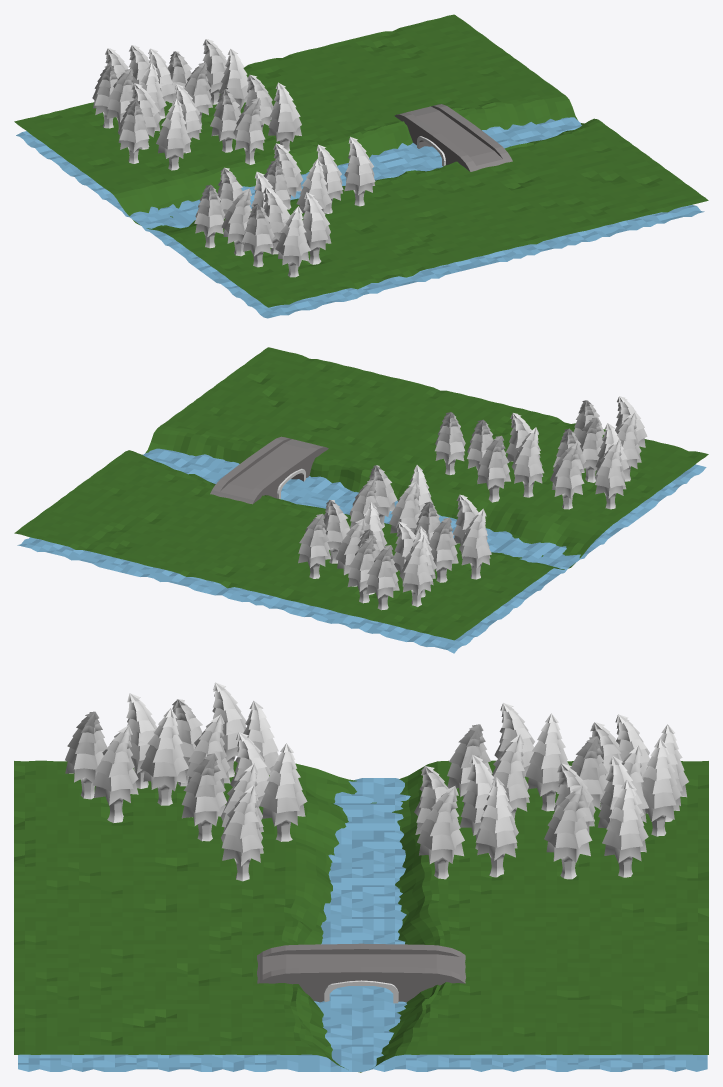
Rendered from Konstruktion.fbx.
The picture shows the model from 3 angles, top to bottom: view 1: azimuth 30°, elevation 25°; view 2: azimuth 150°, elevation 25°; view 3: azimuth 270°, elevation 25°; orthographic projection. The views are drawn at different scales.
Visible parts, largest first — view 1: Plane, Plane.001, Cube, pCylinder1.007, pCylinder1.023, pCylinder1.015, pCylinder1.030, pCylinder1.016, pCylinder1.025, pCylinder1.024, pCylinder1.008, pCylinder1.018 (+20 smaller); view 2: Plane, Plane.001, Cube, pCylinder1.021, pCylinder1.008, pCylinder1.026, pCylinder1.012, pCylinder1.018, pCylinder1.028, pCylinder1.010, pCylinder1.005, pCylinder1.030 (+20 smaller); view 3: Plane, Plane.001, Cube, pCylinder1.022, pCylinder1.003, pCylinder1.026, pCylinder1.025, pCylinder1.015, pCylinder1.005, pCylinder1.017, pCylinder1.030, pCylinder1.027 (+22 smaller).
Part boxes in pixels (x1,y1,x2,y2): Plane: (14,14,708,307); Plane.001: (16,117,704,318); Cube: (394,104,512,171); pCylinder1.007: (156,98,191,170); pCylinder1.023: (275,206,310,277); pCylinder1.015: (268,82,301,151); pCylinder1.030: (344,136,375,206); pCylinder1.016: (233,98,265,164); pCylinder1.025: (303,192,331,264); pCylinder1.024: (242,203,274,267); pCylinder1.008: (118,100,149,163); pCylinder1.018: (194,184,225,248); Plane: (14,347,708,640); Plane.001: (17,448,706,653); Cube: (210,436,328,504); pCylinder1.021: (550,442,584,509); pCylinder1.008: (459,508,491,579); pCylinder1.026: (477,435,510,502); pCylinder1.012: (399,535,432,606); pCylinder1.018: (595,439,626,509); pCylinder1.028: (511,427,544,497); pCylinder1.010: (366,545,399,610); pCylinder1.005: (298,513,330,578); pCylinder1.030: (435,412,465,474); Plane: (14,760,708,1072); Plane.001: (18,778,707,1071); Cube: (257,943,465,1003); pCylinder1.022: (140,708,188,805); pCylinder1.003: (544,785,592,879); pCylinder1.026: (259,743,307,841); pCylinder1.025: (93,725,138,822); pCylinder1.015: (417,786,464,879); pCylinder1.005: (602,779,648,877); pCylinder1.017: (475,777,518,877); pCylinder1.030: (221,785,263,881); pCylinder1.027: (181,753,226,841).
Size of the model in its own units: 2070 by 441 by 2069.
